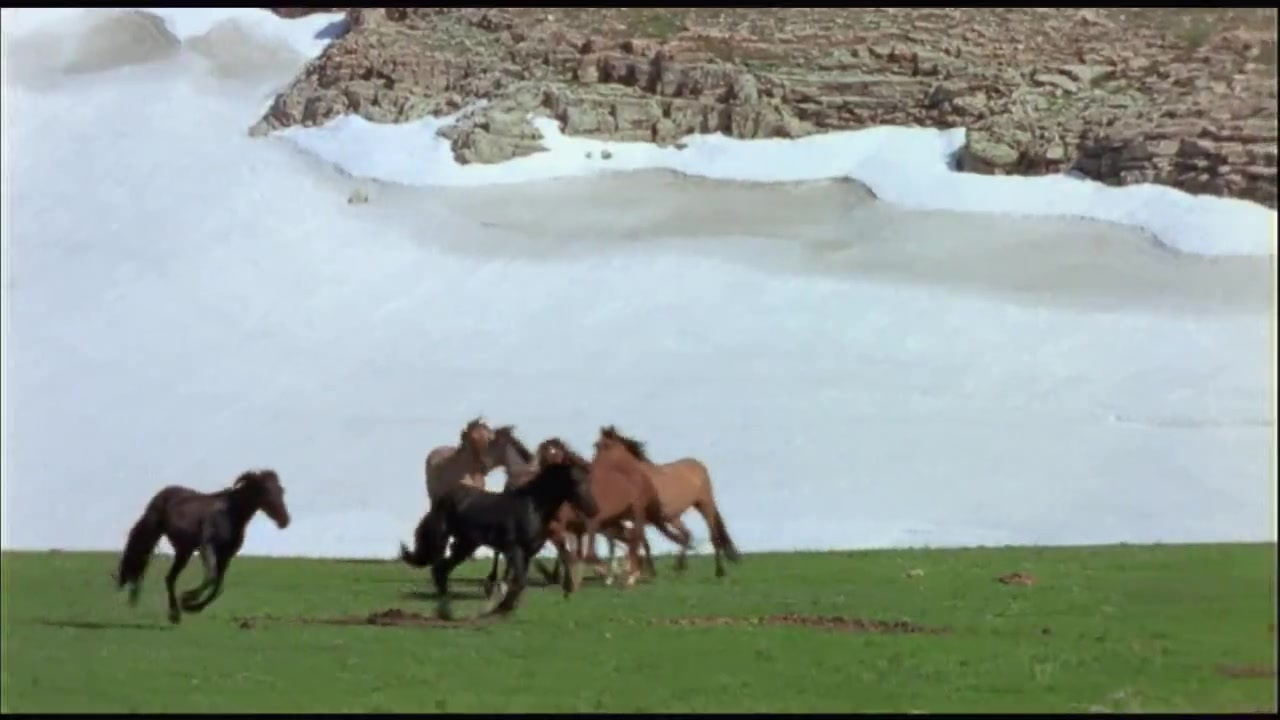horse: (112, 470, 290, 629)
